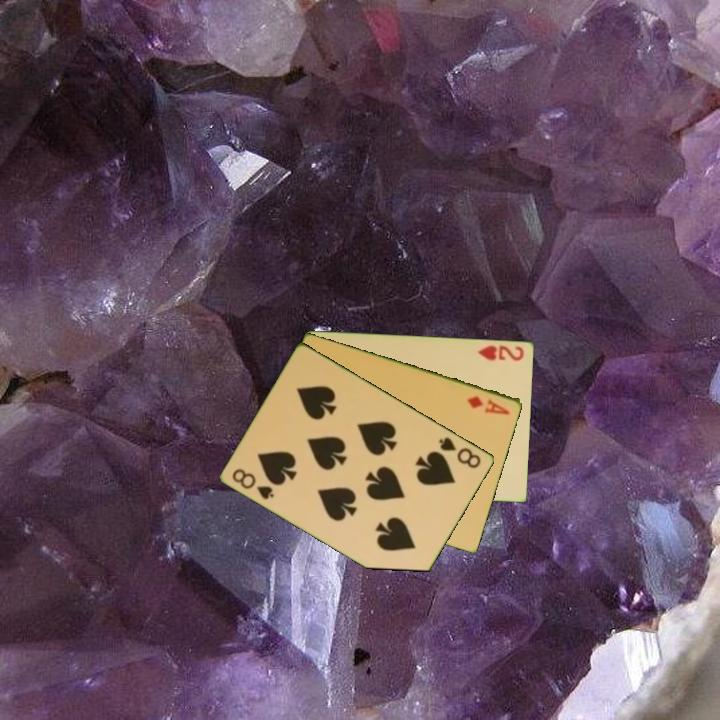2h: (474, 341, 527, 364)
8s: (436, 433, 484, 471), (229, 465, 277, 502)
Ad: (464, 392, 513, 417)
